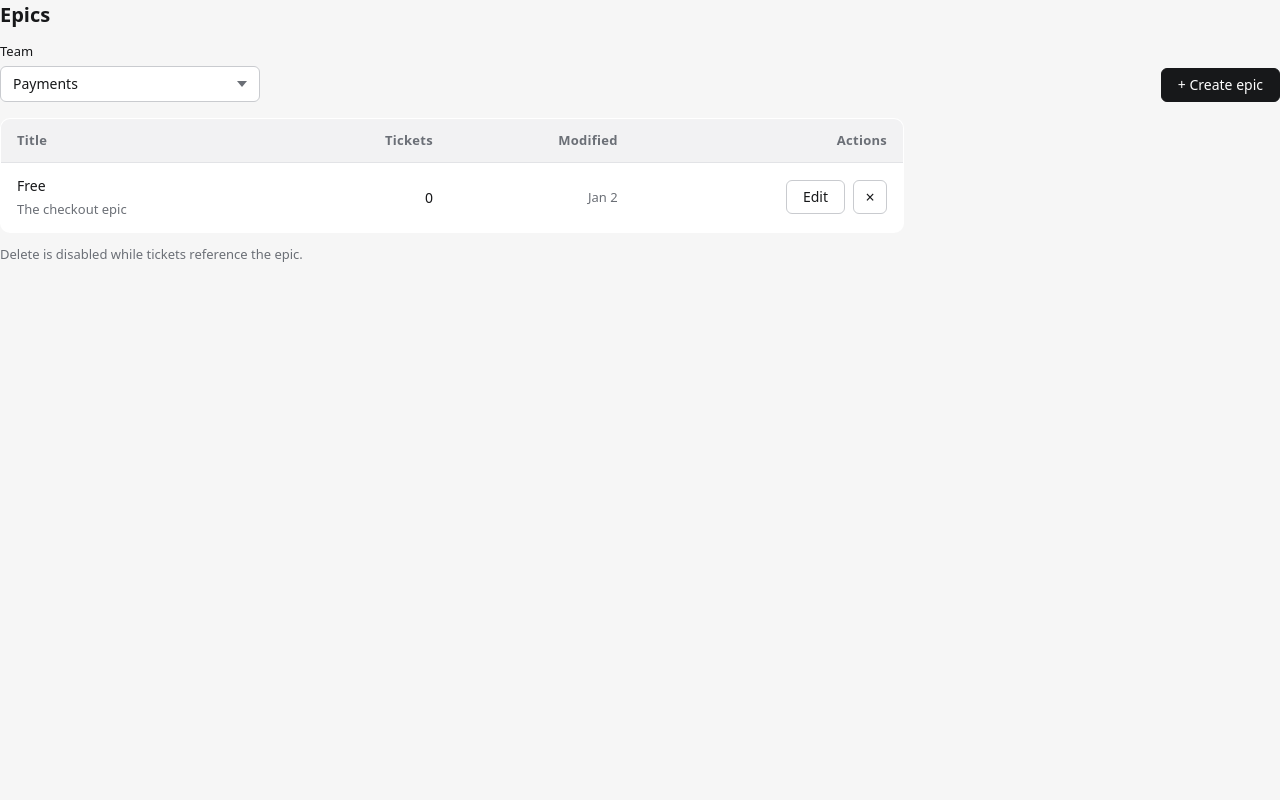
Test: Delete epic › shows a clear message on 409 EPIC_REFERENCED (race)
Click the button named "Delete epic": click(870, 197) [853,180,887,214]
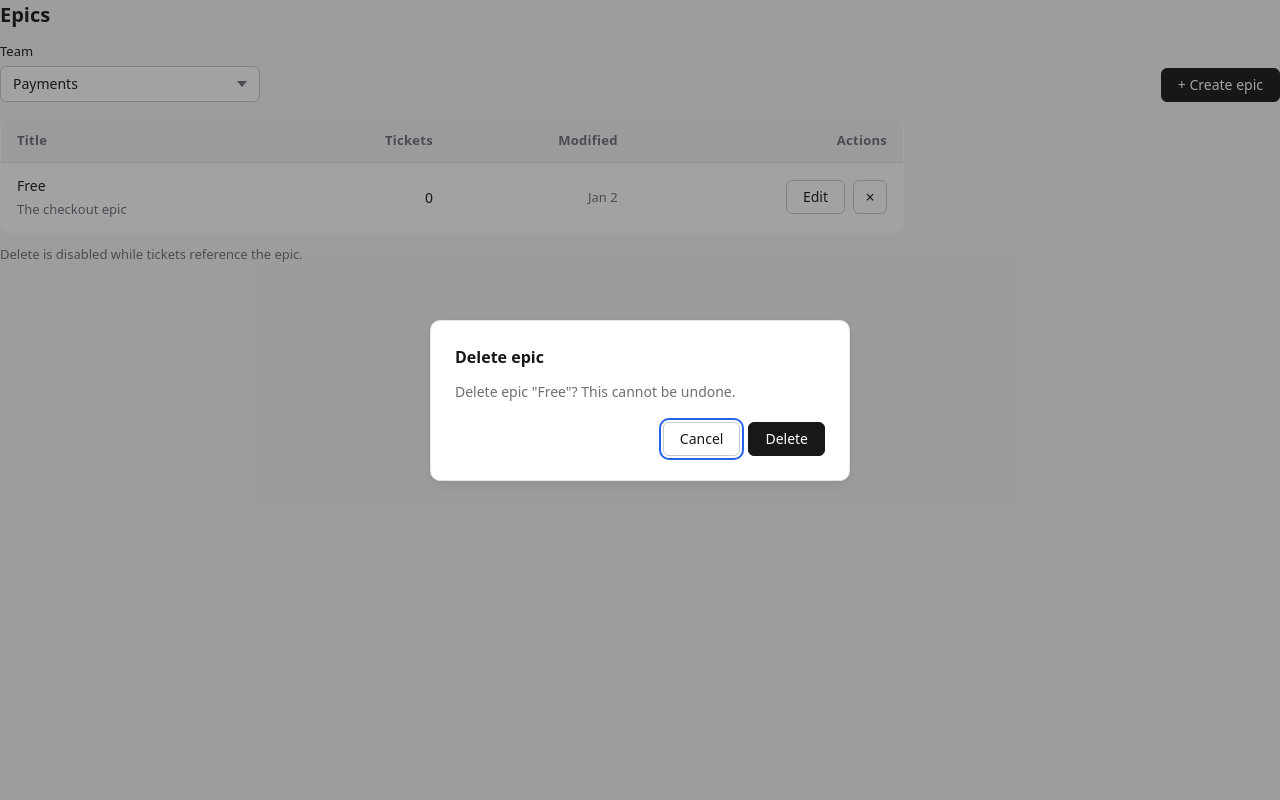
Click the button "Delete": click(787, 438) [748,422,825,456]
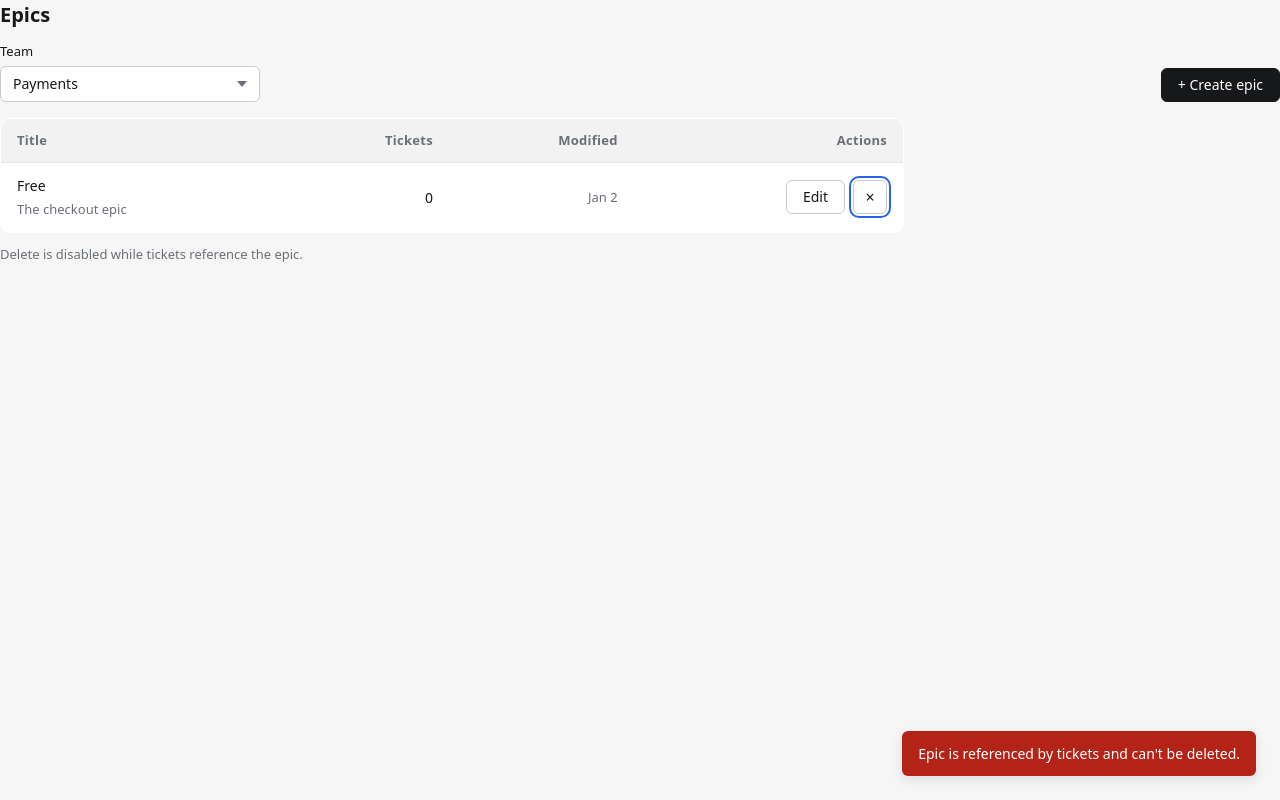
Result: the text "Epic is referenced by tickets and can't be deleted." is shown at [902,731,1256,776]
